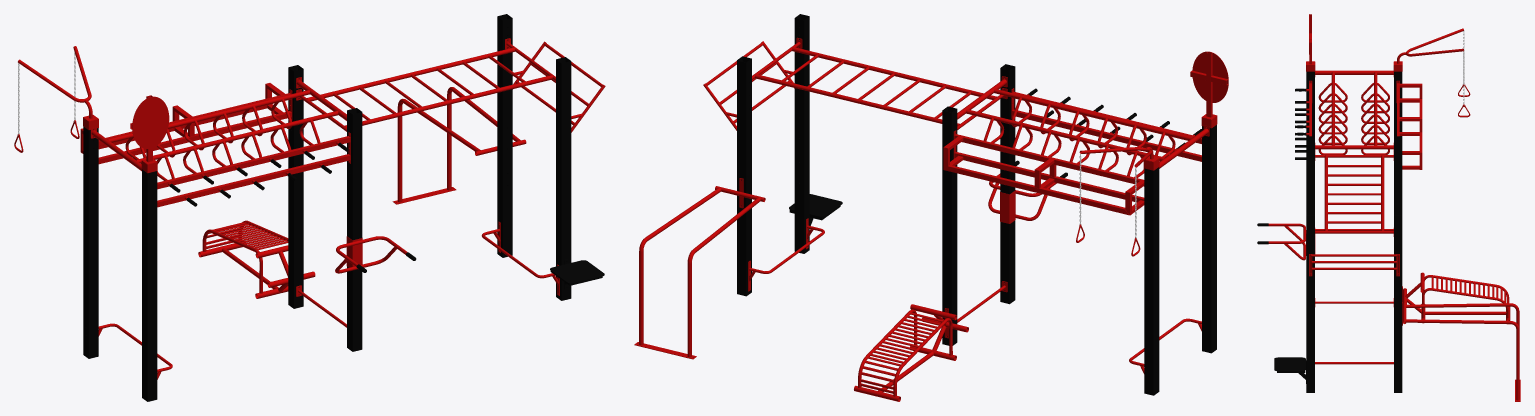
The model's file is games.glb.
The picture shows the model from 3 angles, left to right: view 1: azimuth 30°, elevation 25°; view 2: azimuth 150°, elevation 25°; view 3: azimuth 270°, elevation 25°; orthographic projection. The views are drawn at different scales.
Visible parts, largest first — view 1: 切除-拉伸3, 切除-拉伸8, 切除-拉伸6, 切除-拉伸6.001, 切除-拉伸6.002, 切除-拉伸4, 凸台-拉伸021, 拉伸-薄壁1.007, 拉伸-薄壁1.008, 拉伸-薄壁1.001, 切除-拉伸1.037, 镜向1.015 (+6 smaller); view 2: 切除-拉伸8, 切除-拉伸6, 切除-拉伸3, 切除-拉伸6.001, 切除-拉伸4, 切除-拉伸6.002, 镜向1.001, 拉伸-薄壁1.002, 拉伸-薄壁1.001, 拉伸-薄壁1.007, 凸台-拉伸021, 镜向1 (+8 smaller); view 3: 切除-拉伸6, 切除-拉伸6.001, 切除-拉伸1.038, 切除-拉伸6.002, 切除-拉伸4, 切除-拉伸1.037, 圆角004, 切除-拉伸3, 切除-拉伸8, 镜向1.013, 拉伸-薄壁070, 切除-拉伸2.005 (+11 smaller).
Part boxes in pixels (x1,y1,x2,y2): 切除-拉伸3: (142,169,157,401); 切除-拉伸8: (83,126,98,358); 切除-拉伸6: (556,57,571,300); 切除-拉伸6.001: (497,14,512,257); 切除-拉伸6.002: (347,108,362,351); 切除-拉伸4: (288,65,303,308); 凸台-拉伸021: (132,96,169,148); 拉伸-薄壁1.007: (157,154,350,207); 拉伸-薄壁1.008: (157,136,350,189); 拉伸-薄壁1.001: (98,111,291,164); 切除-拉伸1.037: (397,98,480,202); 镜向1.015: (344,75,552,127); 切除-拉伸8: (1144,167,1159,395); 切除-拉伸6: (794,14,809,253); 切除-拉伸3: (1202,125,1216,353); 切除-拉伸6.001: (737,56,751,296); 切除-拉伸4: (942,106,957,345); 切除-拉伸6.002: (1000,64,1015,304); 镜向1.001: (944,165,1129,215); 拉伸-薄壁1.002: (954,134,1144,186); 拉伸-薄壁1.001: (954,152,1144,202); 拉伸-薄壁1.007: (1012,109,1201,161); 凸台-拉伸021: (1192,51,1228,102); 镜向1: (994,89,1193,140); 切除-拉伸6: (1306,212,1314,392); 切除-拉伸6.001: (1394,212,1402,392); 切除-拉伸1.038: (1405,319,1519,400); 切除-拉伸6.002: (1306,136,1314,212); 切除-拉伸4: (1394,136,1402,212); 切除-拉伸1.037: (1405,303,1519,328); 圆角004: (1274,357,1305,371); 切除-拉伸3: (1306,71,1314,136); 切除-拉伸8: (1394,71,1402,136); 镜向1.013: (1405,28,1463,56); 拉伸-薄壁070: (1315,145,1393,149); 切除-拉伸2.005: (1422,288,1509,318).
Size of the model in its own units: 5.91 by 3.52 by 3.73.
